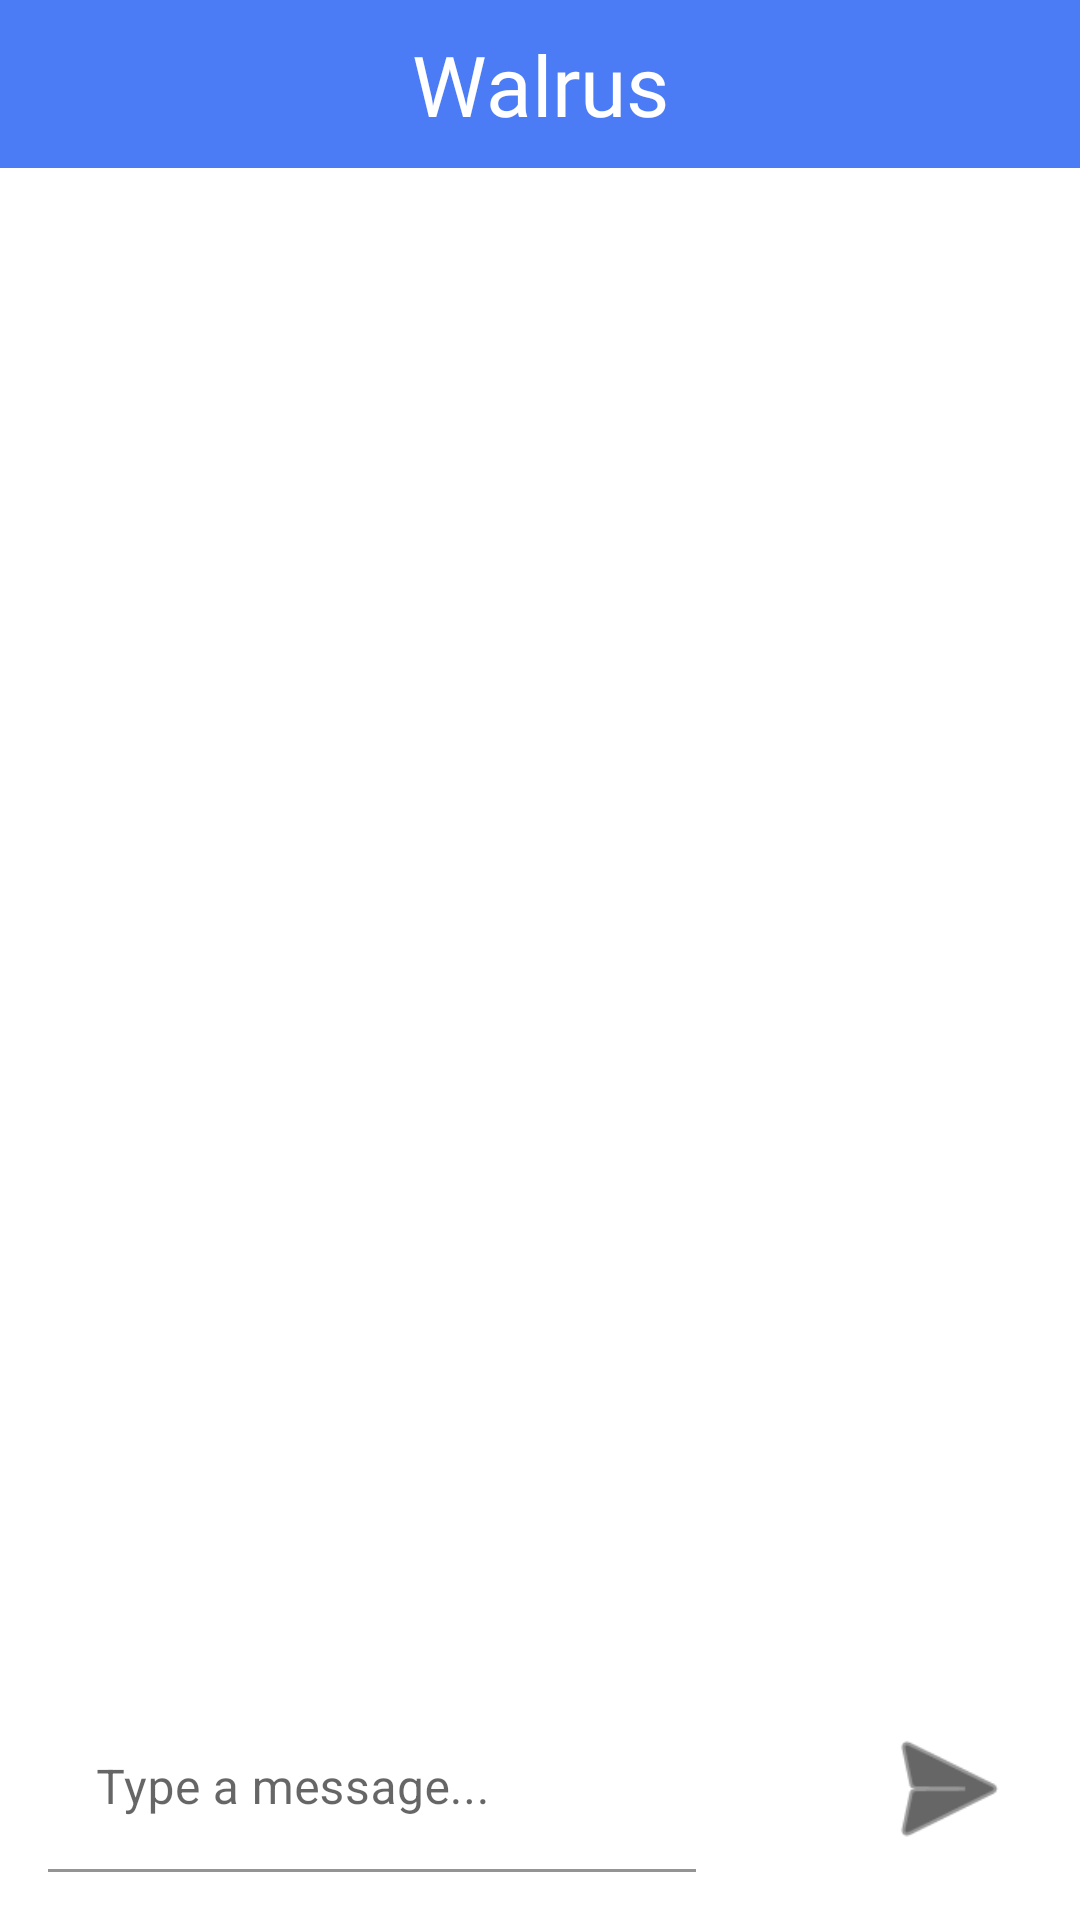

Named icons in this screenshot (1080 × 1920) and their bounding boxes, (x1, y1, x2, y2):
send: (901, 1741, 997, 1836)
